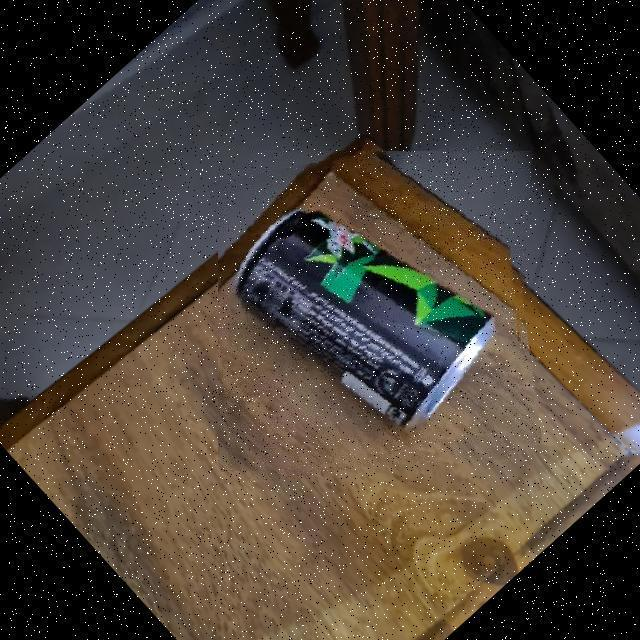recyclable: (218, 151, 533, 473)
